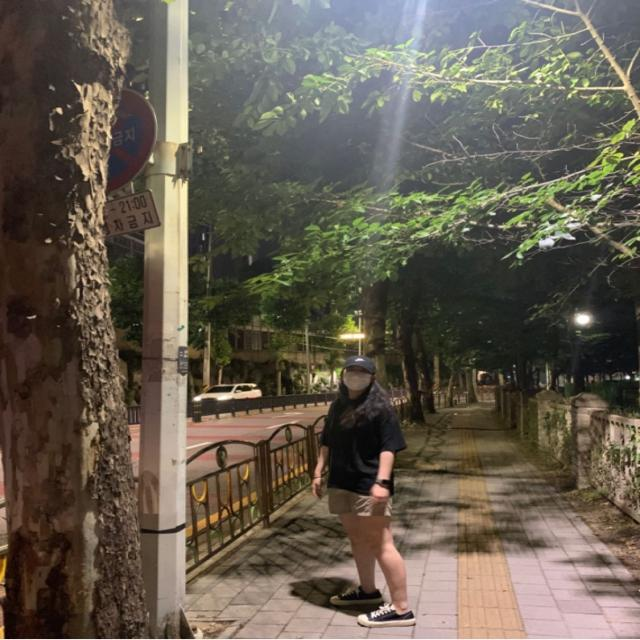shortpants: (331, 480, 395, 514)
shortsleeve: (319, 402, 402, 493)
